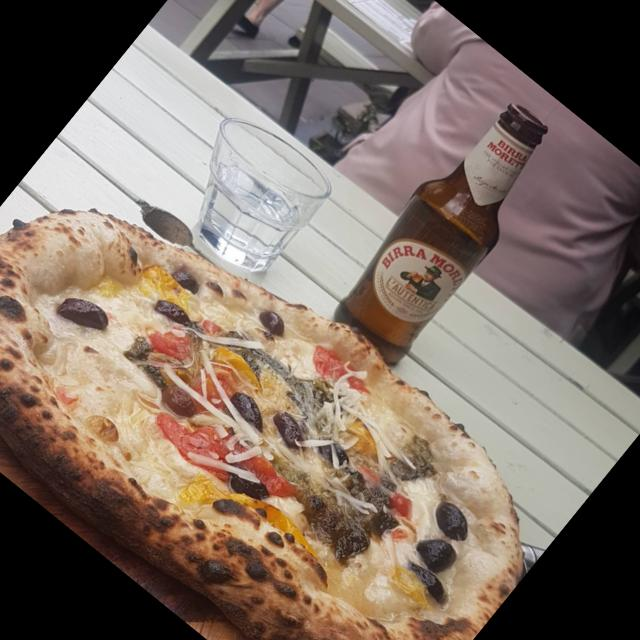black_olives: (410, 528, 470, 585), (51, 282, 110, 339), (218, 458, 272, 511), (426, 494, 481, 546), (222, 384, 269, 429), (315, 437, 361, 481), (150, 288, 196, 332), (268, 408, 313, 452), (404, 559, 449, 602), (254, 302, 294, 340), (168, 264, 208, 302)
peppers: (146, 379, 299, 518), (205, 339, 267, 396), (334, 408, 396, 464)
pizza: (0, 210, 523, 640)
